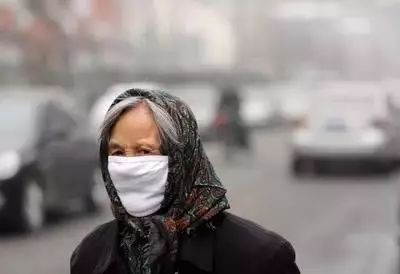mask: (100, 130, 175, 223)
